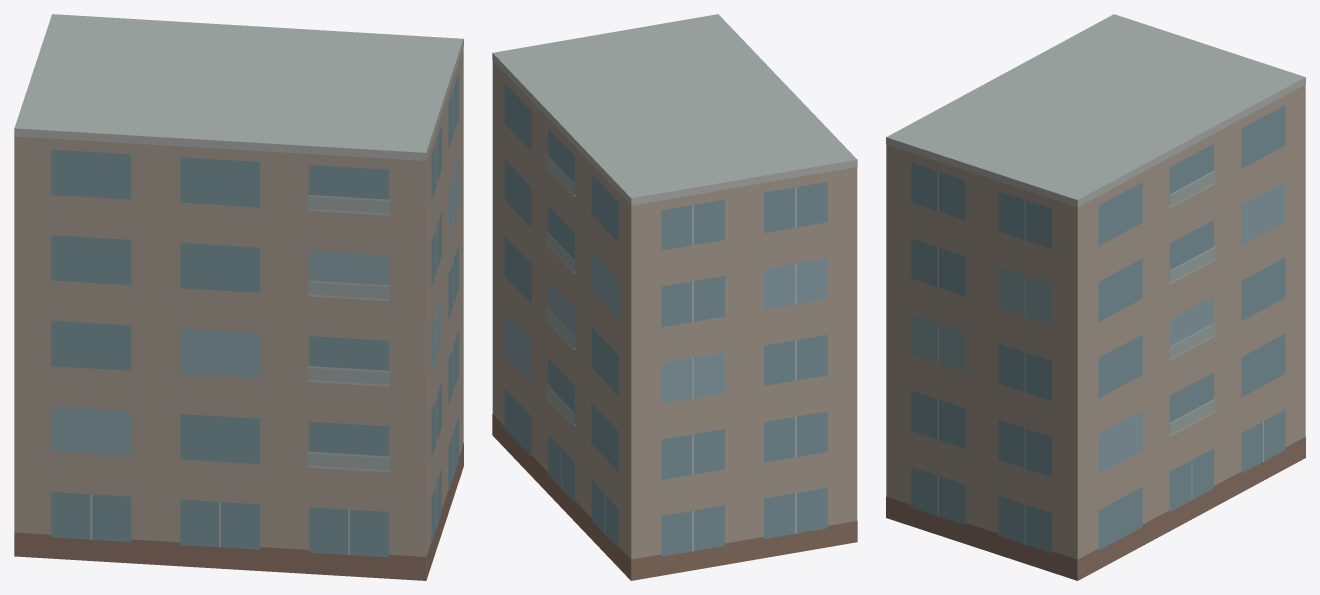
The model's file is survey-upis-32995486.glb.
3 views of the same model, side by side, from view 1: azimuth 30°, elevation 25°; view 2: azimuth 150°, elevation 25°; view 3: azimuth 270°, elevation 25° (orthographic). The views are drawn at different scales.
Visible parts, largest first — view 1: survey-upis-32995486.tmp; view 2: survey-upis-32995486.tmp; view 3: survey-upis-32995486.tmp.
Boxes of the visible parts, x1,y1,x2,y2 form: survey-upis-32995486.tmp: (14,14,463,580); survey-upis-32995486.tmp: (492,14,857,580); survey-upis-32995486.tmp: (886,14,1305,580).
Size of the model in its own units: 13.64 by 13 by 12.99.
